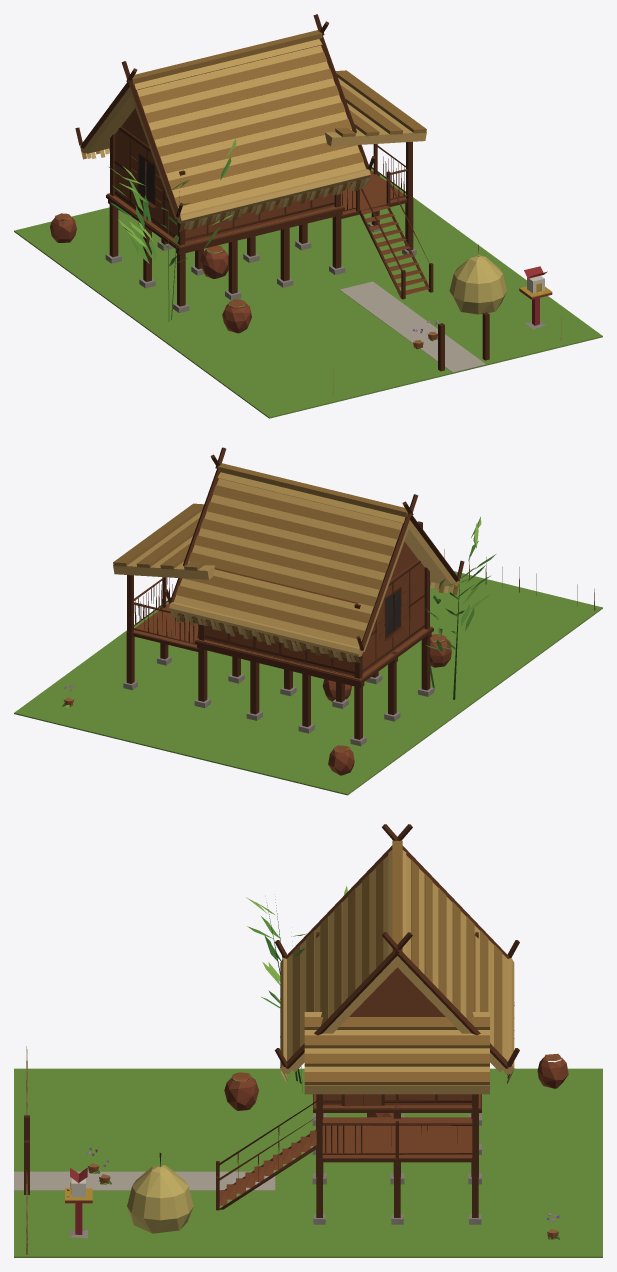
File: house12_1.glb
3 renders of one model, top to bottom at view 1: azimuth 30°, elevation 25°; view 2: azimuth 150°, elevation 25°; view 3: azimuth 270°, elevation 25°, orthographic. The views are drawn at different scales.
Parts seen in each view (by area): view 1: body; view 2: body, windows; view 3: body.
Boxes of the visible parts, bbox=[...] form: body: bbox=[14, 14, 602, 418]; body: bbox=[14, 447, 602, 795]; windows: bbox=[385, 589, 400, 635]; body: bbox=[14, 824, 602, 1257].
Bounding box in the file's own units: 12.64 × 7.96 × 15.9.
